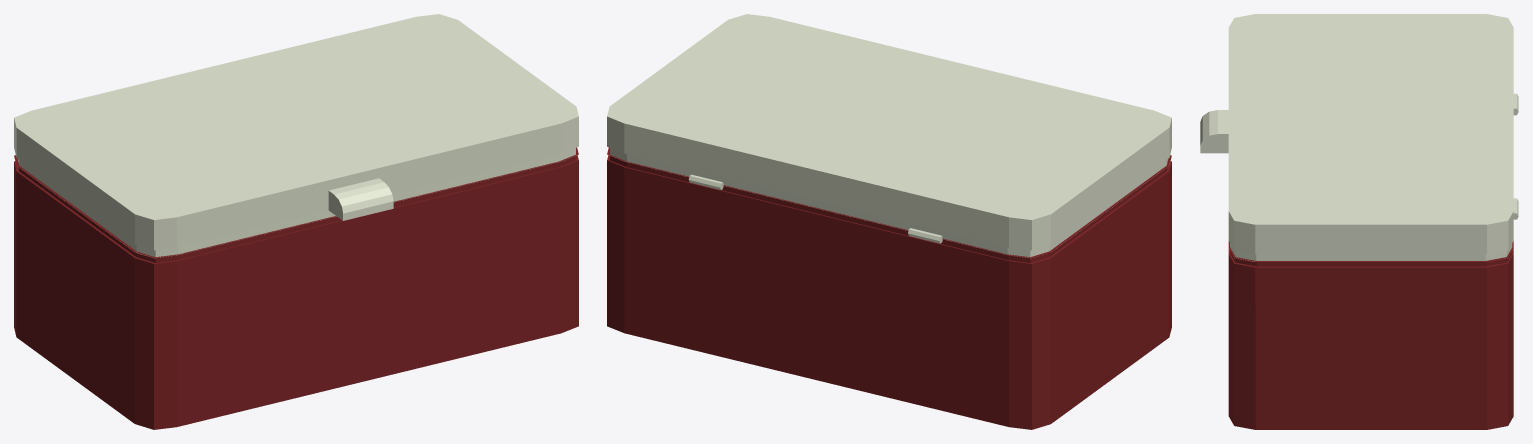
The model's file is hielera.fbx.
3 renders of one model, left to right at view 1: azimuth 30°, elevation 25°; view 2: azimuth 150°, elevation 25°; view 3: azimuth 270°, elevation 25°, orthographic. The views are drawn at different scales.
Visible parts, largest first — view 1: hielera, tapa hielera; view 2: hielera, tapa hielera; view 3: tapa hielera, hielera.
Part boxes in pixels (bbox=[...]): hielera: bbox=[14, 147, 578, 429]; tapa hielera: bbox=[14, 14, 578, 258]; hielera: bbox=[607, 147, 1171, 429]; tapa hielera: bbox=[607, 14, 1171, 258]; tapa hielera: bbox=[1200, 14, 1518, 261]; hielera: bbox=[1228, 241, 1513, 429].
Bounding box in the file's own units: 70 × 31.79 × 44.7.
